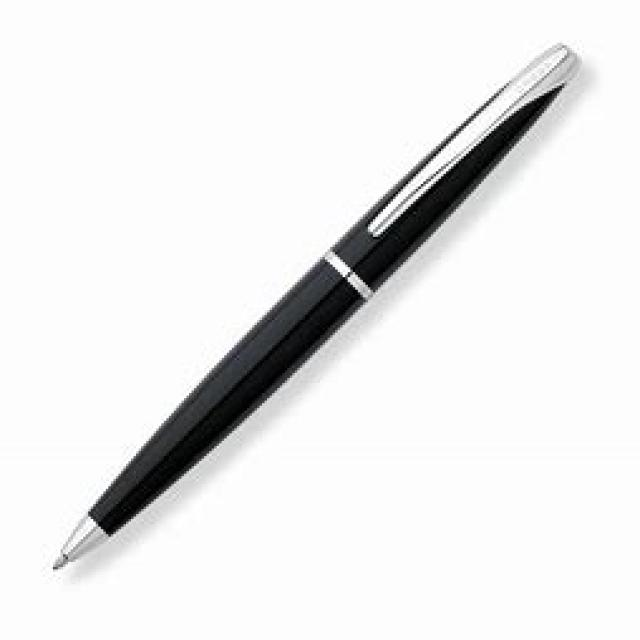pen: (53, 39, 582, 572)
